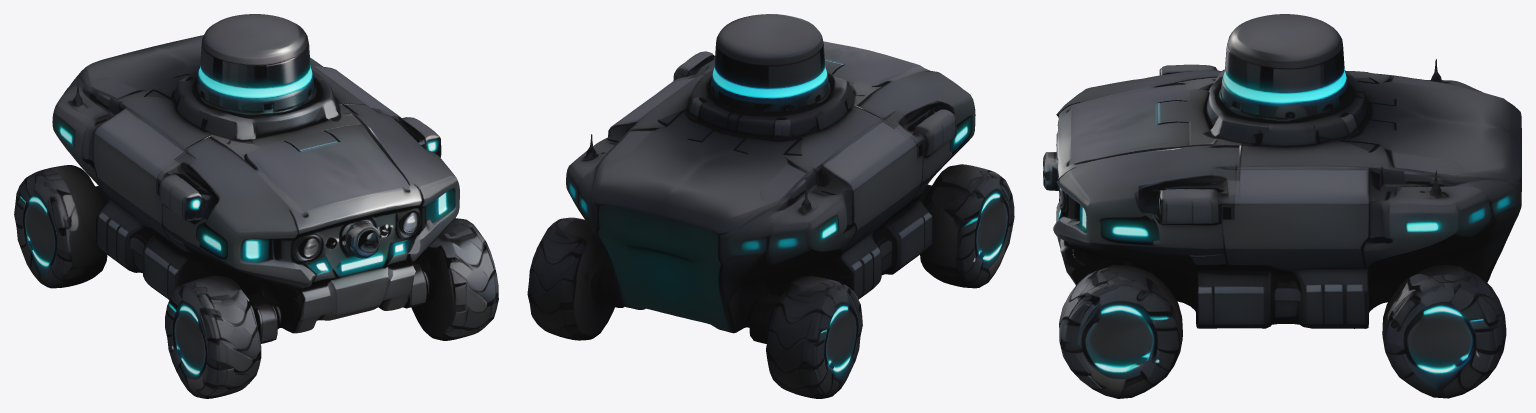
The model's file is robot_shaded.glb.
The picture shows the model from 3 angles, left to right: view 1: azimuth 30°, elevation 25°; view 2: azimuth 150°, elevation 25°; view 3: azimuth 270°, elevation 25°; orthographic projection. The views are drawn at different scales.
Visible parts, largest first — view 1: model; view 2: model; view 3: model.
Part boxes in pixels (x1,y1,x2,y2): model: (14,14,498,398); model: (527,14,1014,398); model: (1043,14,1521,398).
Size of the model in its own units: 1.41 by 1.31 by 1.9.
Materials: 1 (1 with a texture image).
